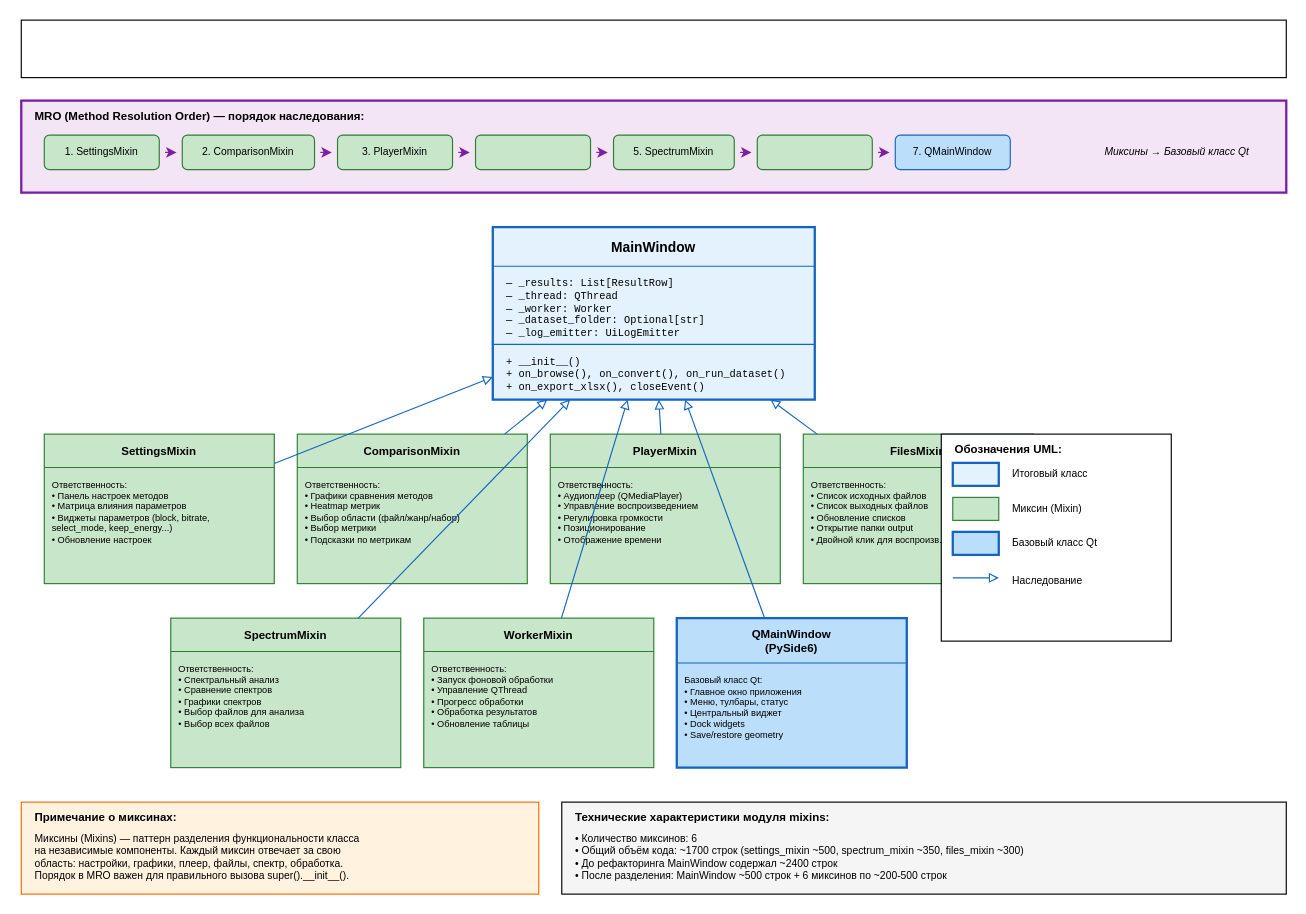
Image size: 1306x914. Some labels were removed from this diagram. Each missing label, with the centre of its shape:
4. FilesMixin: point 532,152
6. WorkerMixin: point 814,152
UML-диаграмма классов MainWindow и миксинов Лист 1 из 1: point 653,48
